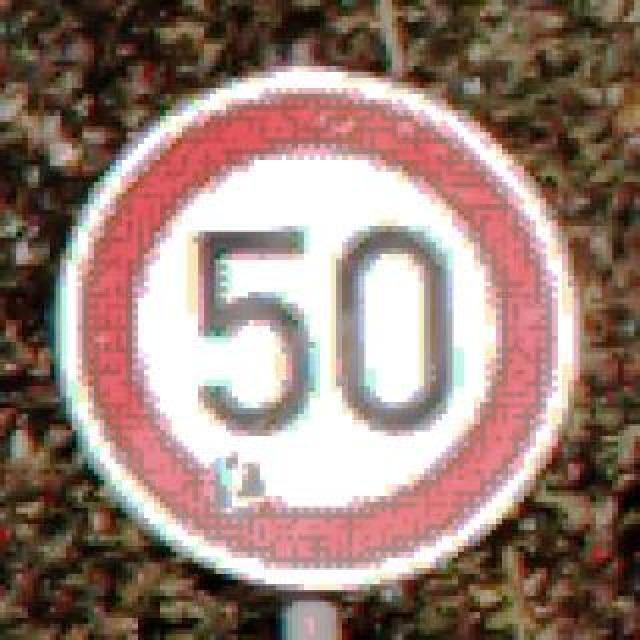50 kph: (50, 56, 578, 586)
